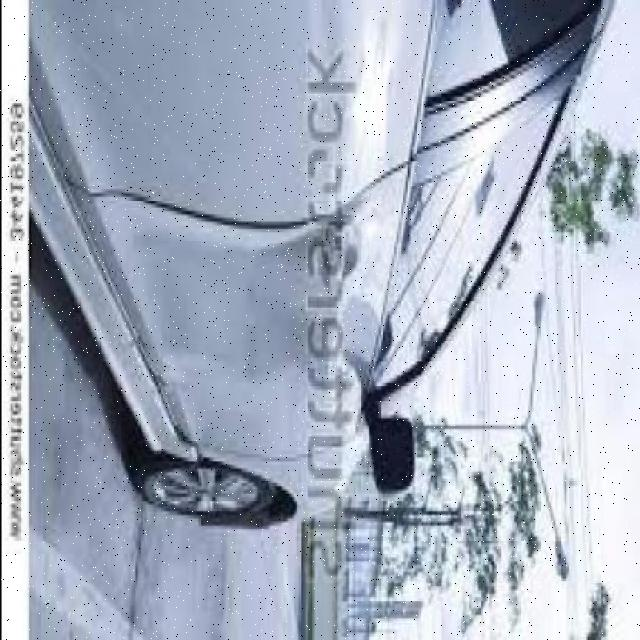damage: (118, 212, 350, 391)
